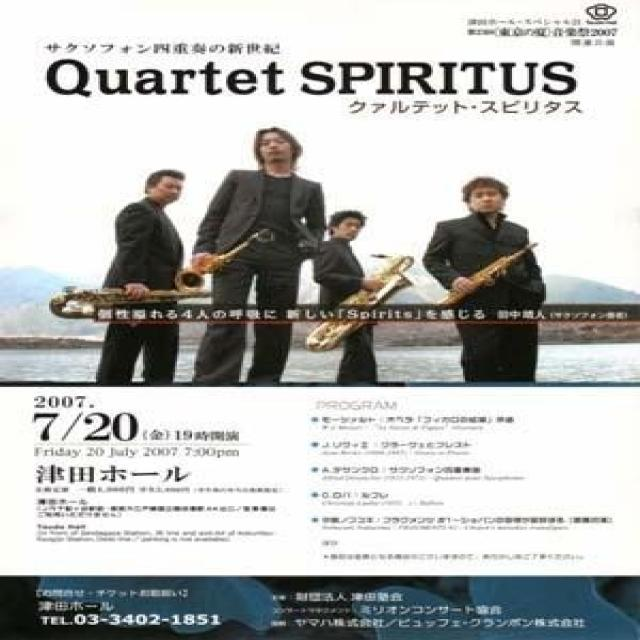saxophone: (299, 248, 418, 356), (41, 267, 211, 322), (432, 237, 540, 308)
